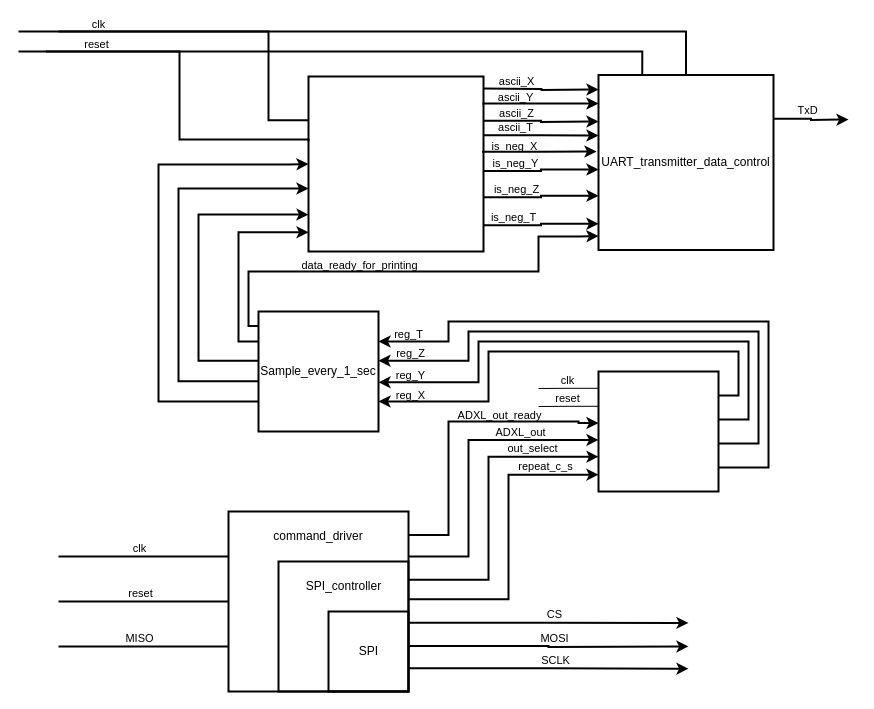
Some shapes in this 874 by 709 pixel diagram are drawn without their labels. The shapes that lost their labels are listed below. From the top down, each one's box as (x1, y1, x2, y2) in pixels, then its label:
(307, 75, 484, 252): bin_to_ascii
(597, 370, 719, 492): ADXL_data
